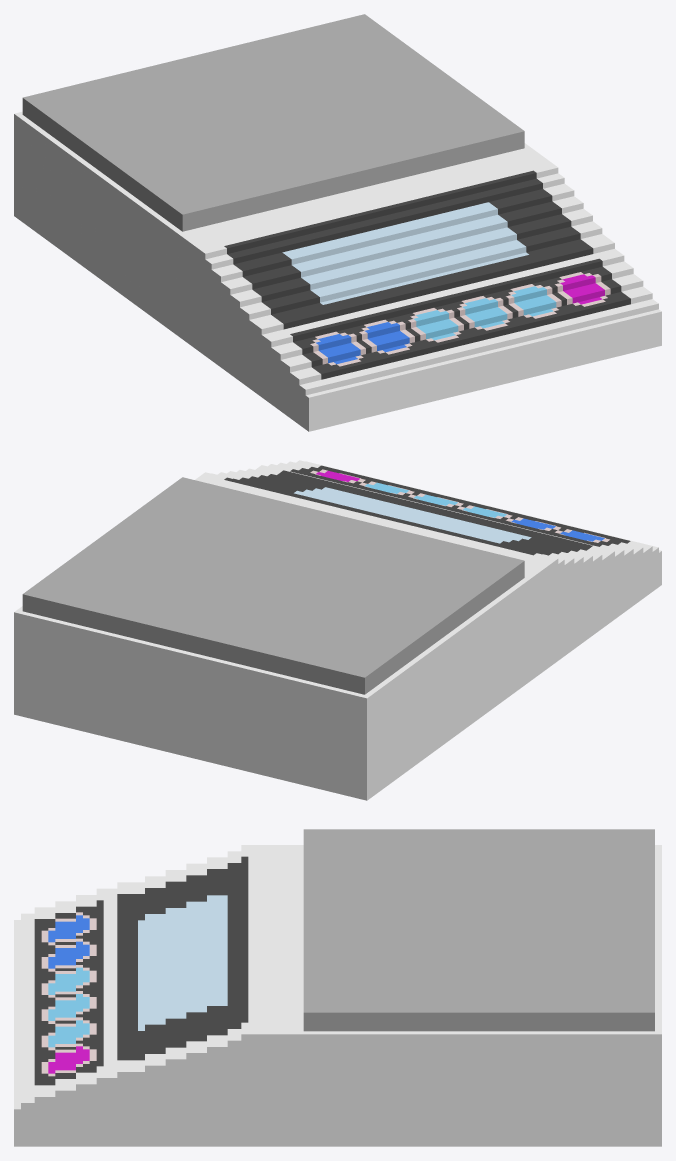
File: Electronic Scale.fbx
3 renders of one model, top to bottom at view 1: azimuth 30°, elevation 25°; view 2: azimuth 150°, elevation 25°; view 3: azimuth 270°, elevation 25°, orthographic. The views are drawn at different scales.
Parts seen in each view (by area): view 1: Electronic Scale; view 2: Electronic Scale; view 3: Electronic Scale.
Boxes of the visible parts, bbox=[...] form: Electronic Scale: bbox=[14, 14, 661, 431]; Electronic Scale: bbox=[14, 460, 661, 800]; Electronic Scale: bbox=[14, 829, 661, 1146].
Bounding box in the file's own units: 6.5 × 2.1 × 9.4.
